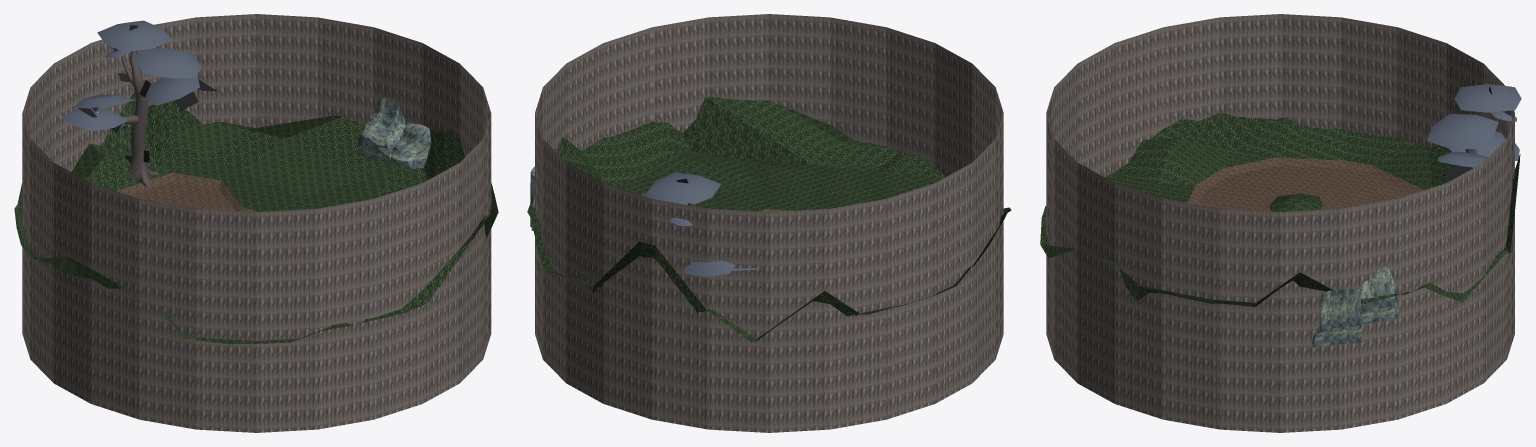
The model's file is sm_meda_terrain.gltf.
The picture shows the model from 3 angles, left to right: view 1: azimuth 30°, elevation 25°; view 2: azimuth 150°, elevation 25°; view 3: azimuth 270°, elevation 25°; orthographic projection.
Visible parts, largest first — view 1: Cylinder, MyLowPolyTerrain2, tree1, Cube, Cube.001; view 2: Cylinder, MyLowPolyTerrain2, tree1; view 3: Cylinder, MyLowPolyTerrain2, tree1, Cube.001, Cube.
Boxes of the visible parts, left/top/right/bottom form: Cylinder: left=22, top=14, right=491, bottom=432; MyLowPolyTerrain2: left=14, top=91, right=498, bottom=344; tree1: left=61, top=20, right=217, bottom=187; Cube: left=358, top=97, right=405, bottom=161; Cube.001: left=390, top=123, right=431, bottom=168; Cylinder: left=535, top=14, right=1003, bottom=432; MyLowPolyTerrain2: left=527, top=96, right=1011, bottom=342; tree1: left=641, top=172, right=757, bottom=277; Cylinder: left=1046, top=14, right=1514, bottom=432; MyLowPolyTerrain2: left=1040, top=112, right=1520, bottom=306; tree1: left=1427, top=84, right=1521, bottom=181; Cube.001: left=1312, top=288, right=1361, bottom=347; Cube: left=1360, top=266, right=1398, bottom=323.
Bounding box in the file's own units: 29.72 × 16.13 × 29.65.
9 materials, 5 textured.
